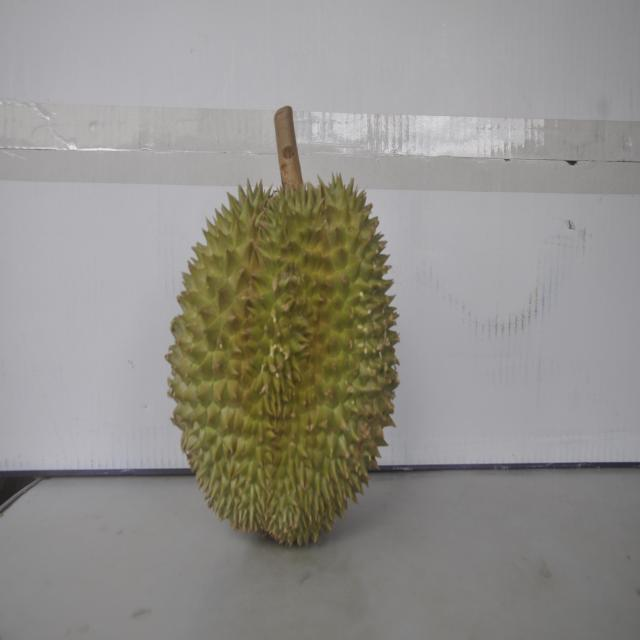mature: (165, 158, 400, 546)
